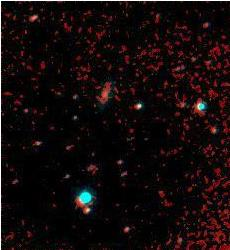star: (86, 81, 116, 111)
